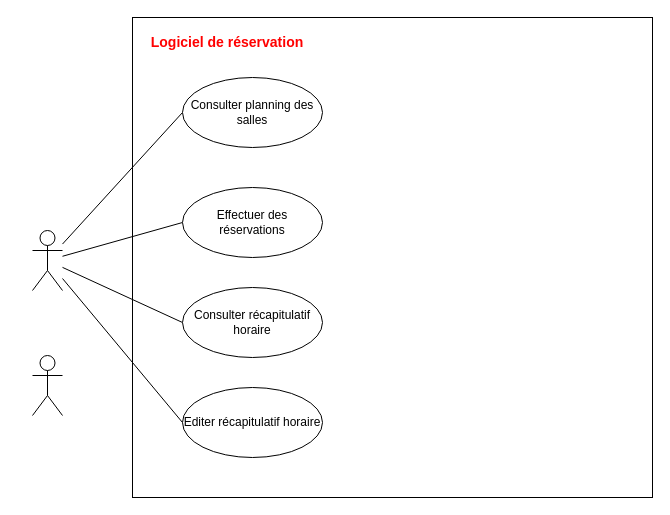
Image size: 670x515. Some labels were removed from this diagram. The centre of each missing label's shape, as x and y in pixels:
Actor: [47,385]
Enseignant: [47,260]
